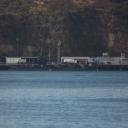submarine: (9, 47, 105, 72)
